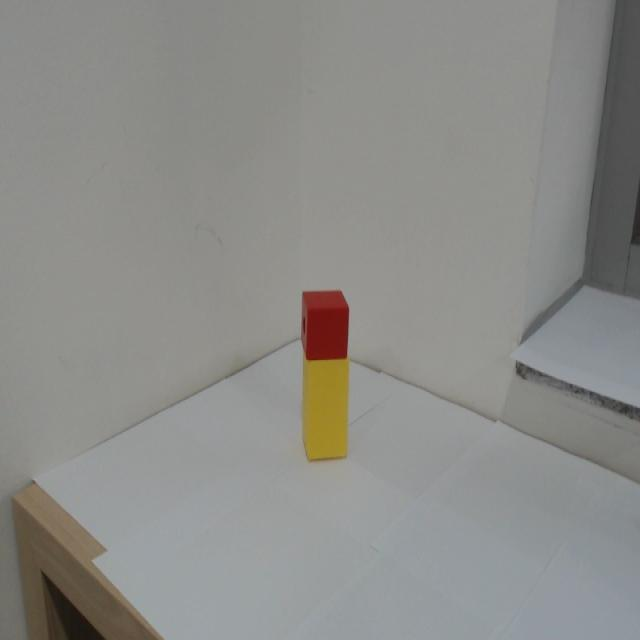cube: (299, 287, 352, 363)
